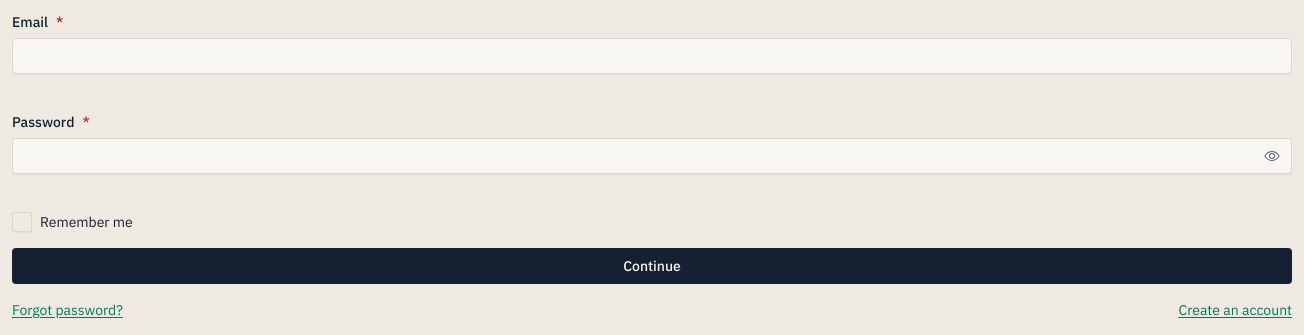
Test: LoginForm › shows validation errors and does not submit when the form is empty
The width and height of the screenshot is (1304, 335).
Click the button "Continue" at [652, 266], box [12,248,1292,284]
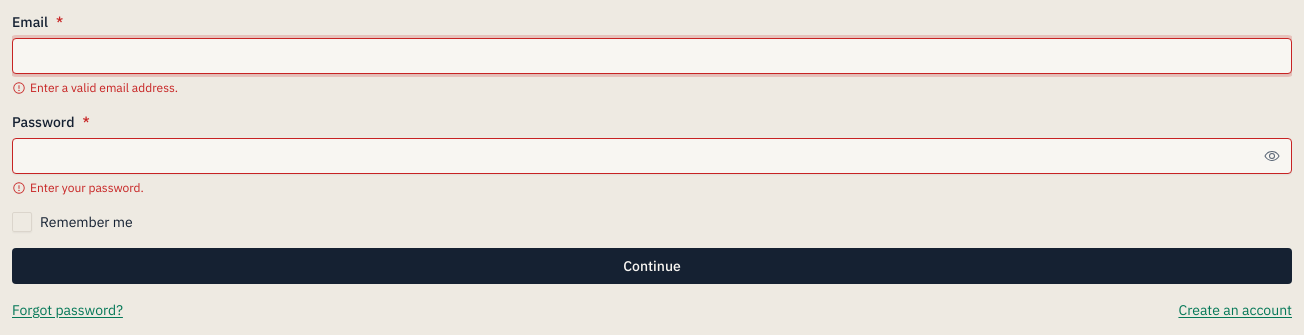
Now the text "Enter a valid email address." is shown, box [12,80,178,95]
Now the text "Enter your password." is shown, box [12,180,144,195]
